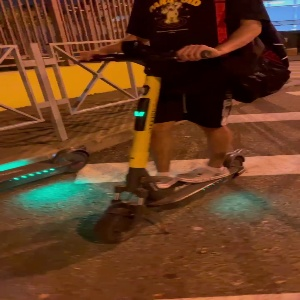human on a scooter: (74, 1, 291, 244)
